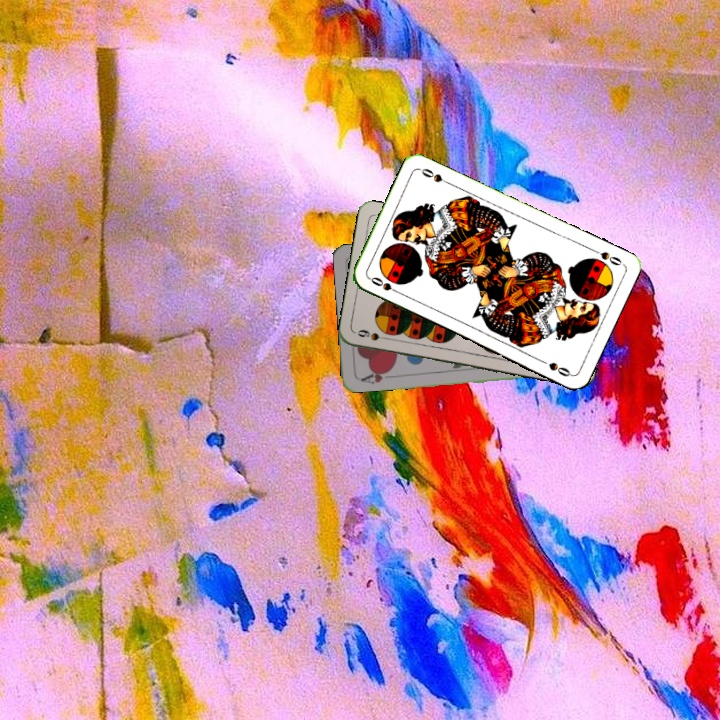HA: (357, 366, 396, 387)
S9: (353, 325, 393, 343)
SO: (365, 273, 403, 297), (587, 244, 625, 268)
